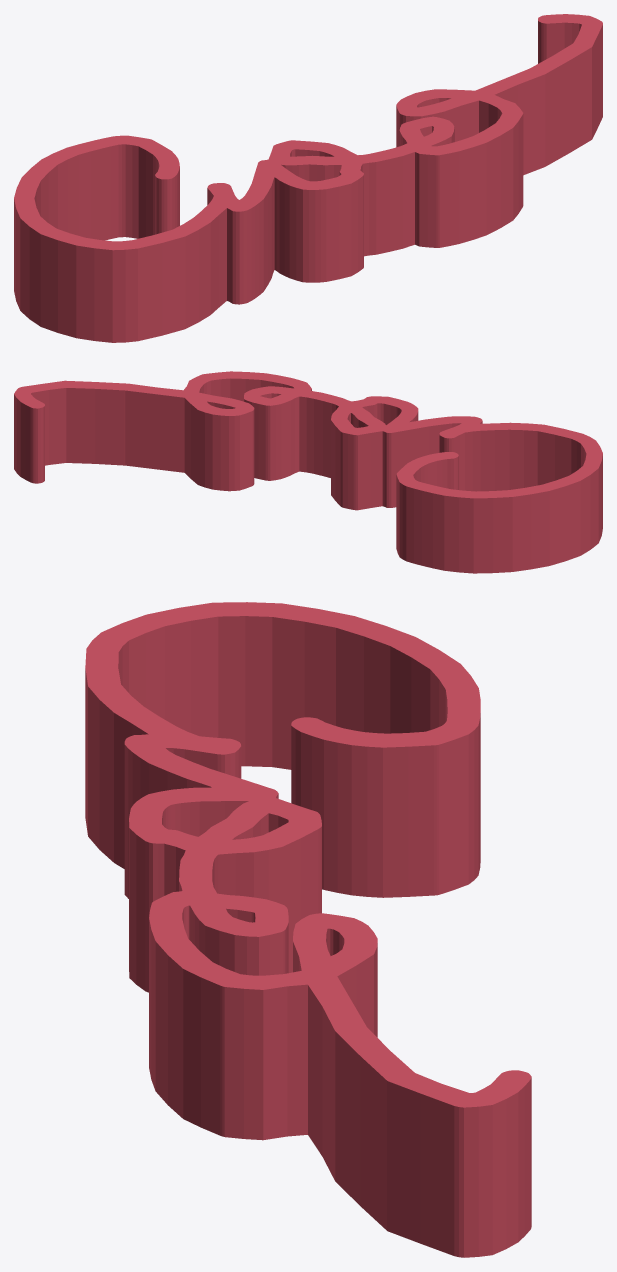
Rendered from asset.glb.
3 views of the same model, one above another, from view 1: azimuth 30°, elevation 25°; view 2: azimuth 150°, elevation 25°; view 3: azimuth 270°, elevation 25° (orthographic). The views are drawn at different scales.
Visible parts, largest first — view 1: Mesh_Mesh_head_geo.001_lambert2SG.001; view 2: Mesh_Mesh_head_geo.001_lambert2SG.001; view 3: Mesh_Mesh_head_geo.001_lambert2SG.001.
Boxes of the visible parts, box(x1,y1,x2,y2) form: Mesh_Mesh_head_geo.001_lambert2SG.001: box(14, 14, 602, 342); Mesh_Mesh_head_geo.001_lambert2SG.001: box(14, 371, 602, 573); Mesh_Mesh_head_geo.001_lambert2SG.001: box(85, 602, 531, 1257).
Size of the model in its own units: 72.16 by 10 by 26.92.
